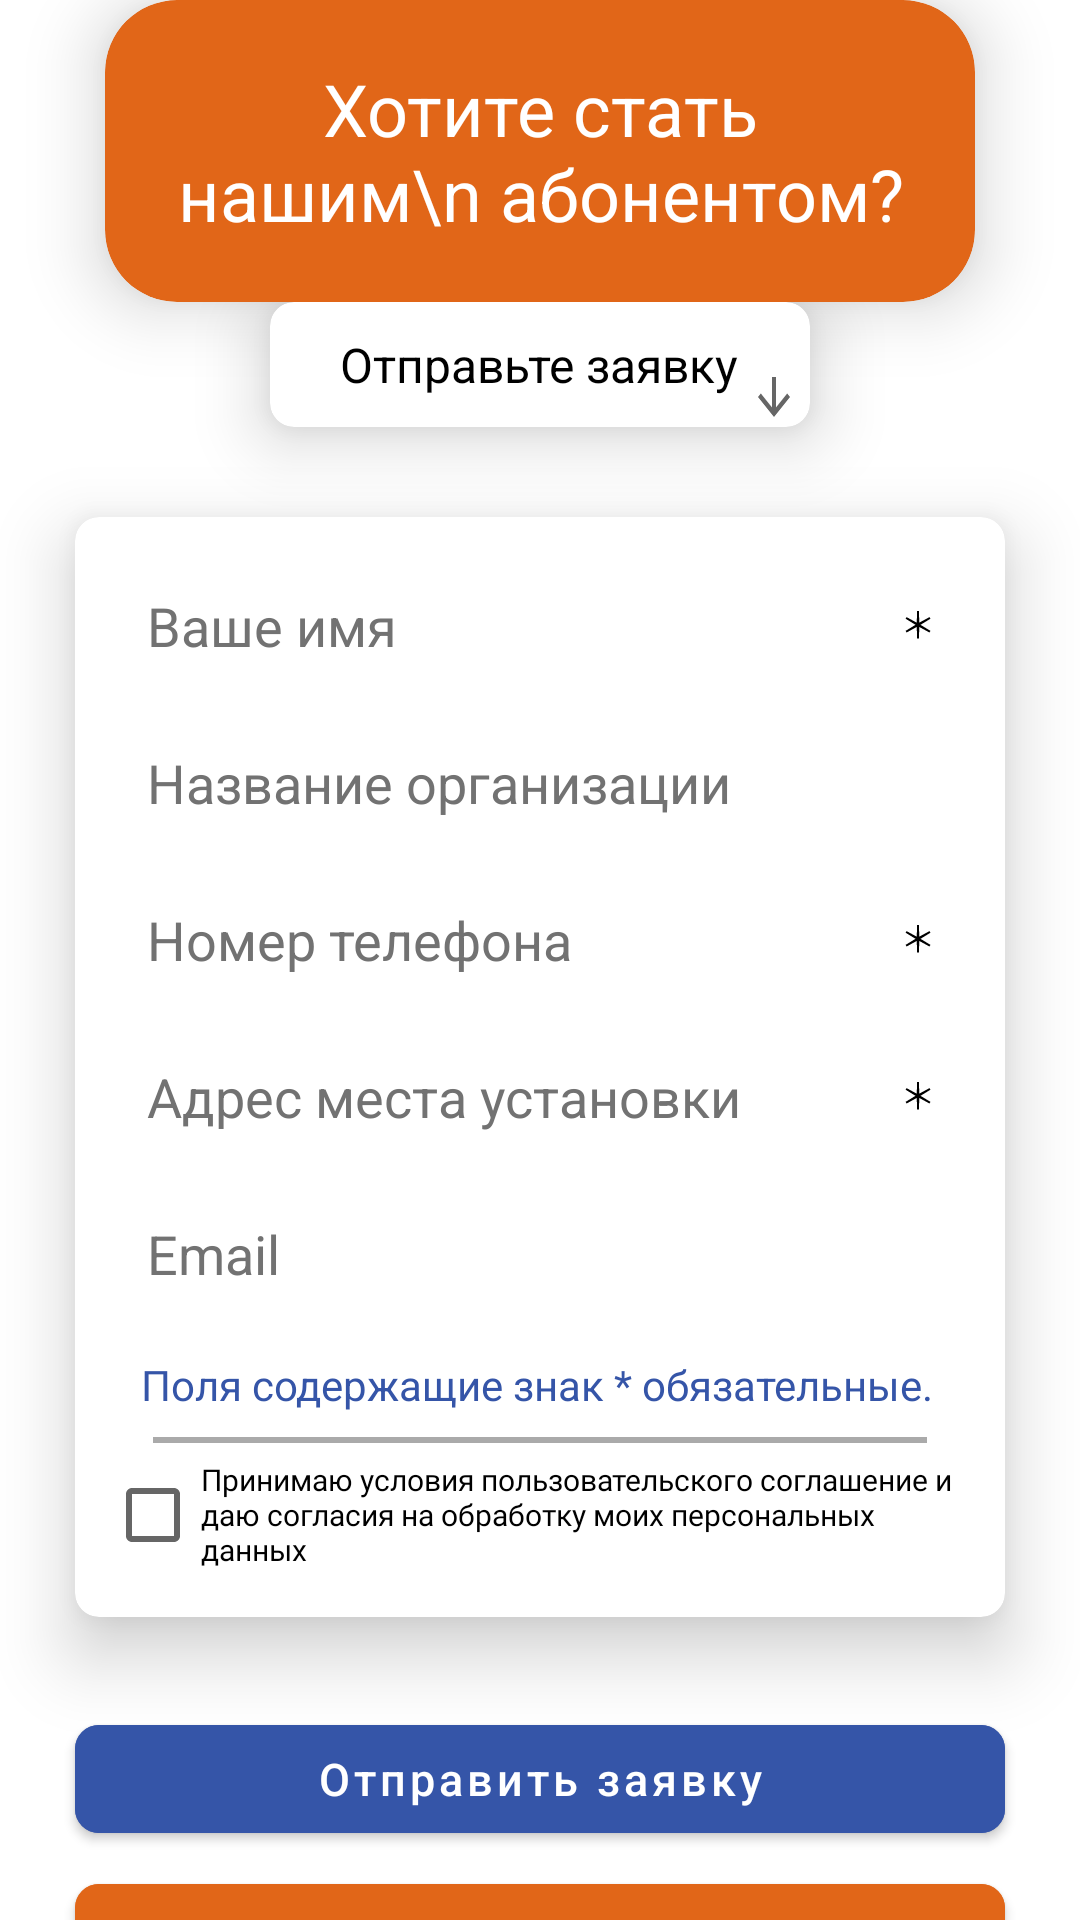

Screen size 1080px x 1920px. Icon name, then its center in pixels as point (x, y):
arrow bottom: point (774, 397)
